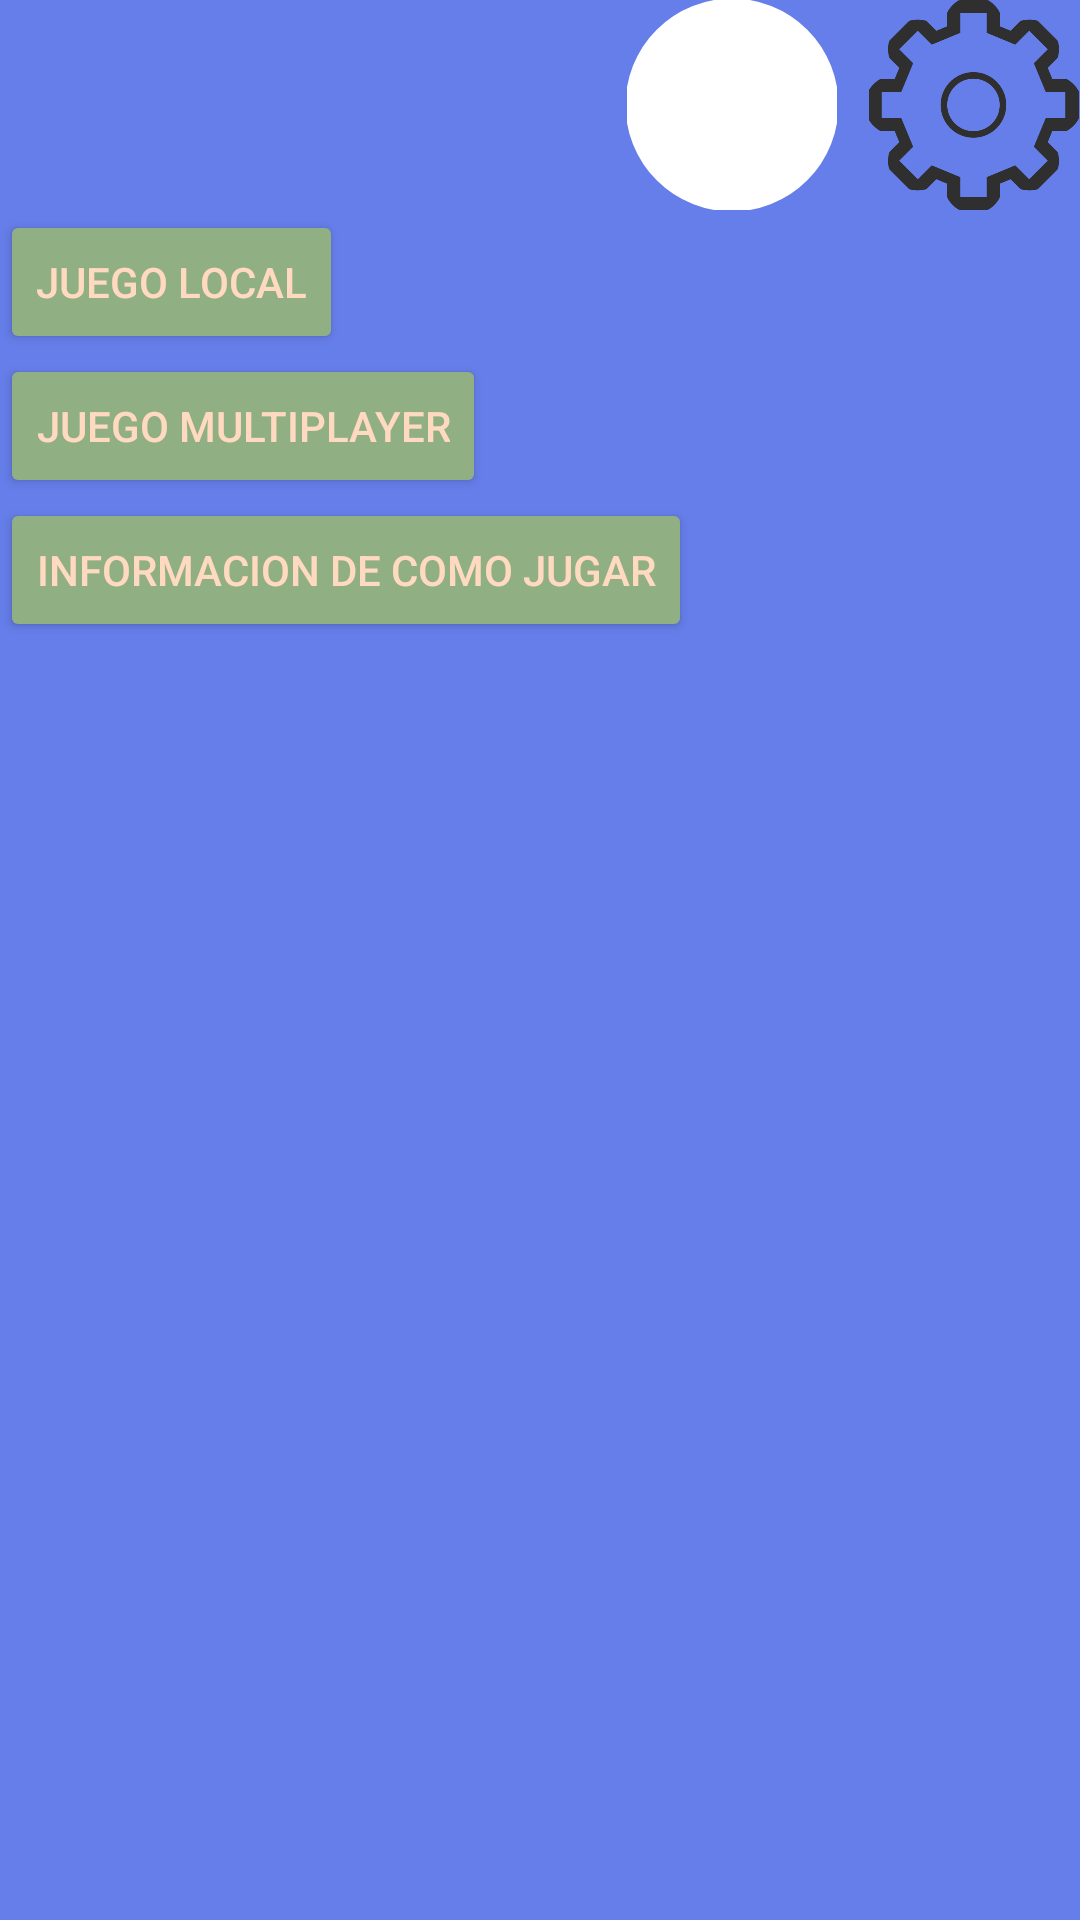

Icons on this 1080 × 1920 Android screen, each with its box as (x1, y1, x2, y2):
settings: (869, 0, 1079, 210)
